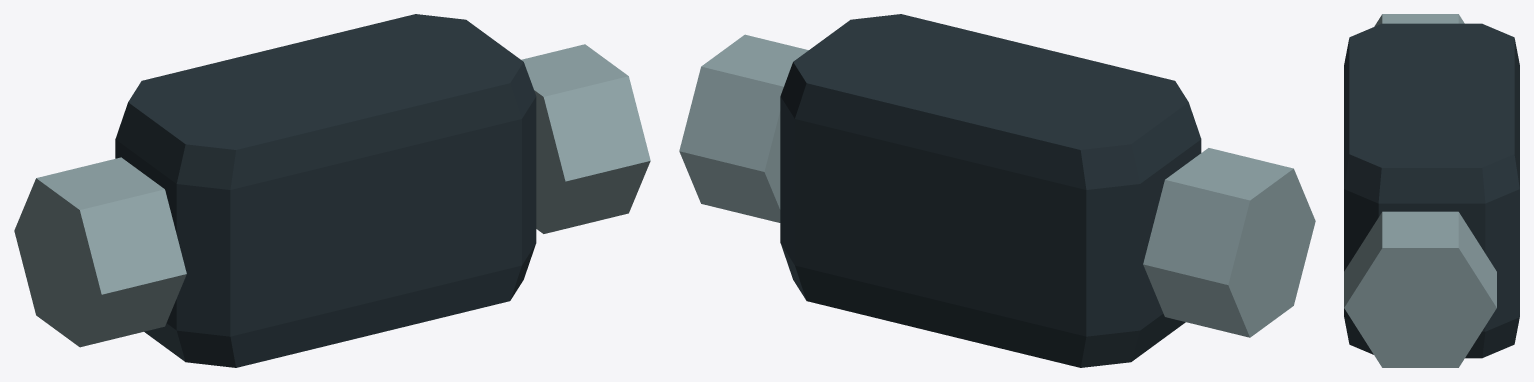
File: SM_NPC_ACCESSORY_001_Respirator.glb
The picture shows the model from 3 angles, left to right: view 1: azimuth 30°, elevation 25°; view 2: azimuth 150°, elevation 25°; view 3: azimuth 270°, elevation 25°; orthographic projection. The views are drawn at different scales.
Visible parts, largest first — view 1: SM_NPC_ACCESSORY_001_Respirator; view 2: SM_NPC_ACCESSORY_001_Respirator; view 3: SM_NPC_ACCESSORY_001_Respirator.
Part boxes in pixels (left/top/right/bottom): SM_NPC_ACCESSORY_001_Respirator: left=14, top=14, right=650, bottom=367; SM_NPC_ACCESSORY_001_Respirator: left=679, top=14, right=1315, bottom=367; SM_NPC_ACCESSORY_001_Respirator: left=1344, top=14, right=1519, bottom=367.
Bounding box in the file's own units: 0.29 × 0.11 × 0.092.
